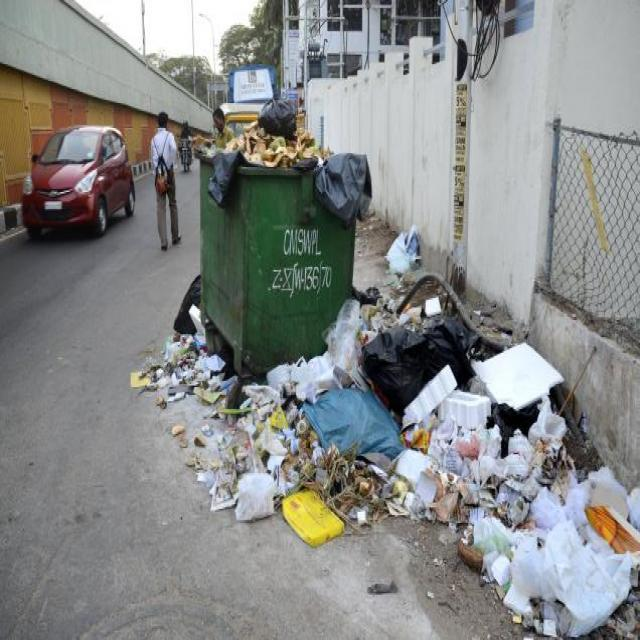bin: (193, 144, 361, 375)
plastic: (144, 287, 639, 637), (378, 229, 428, 280)
